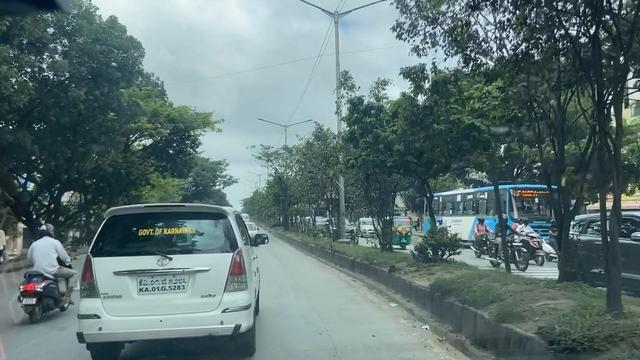HMV: (417, 186, 566, 258)
